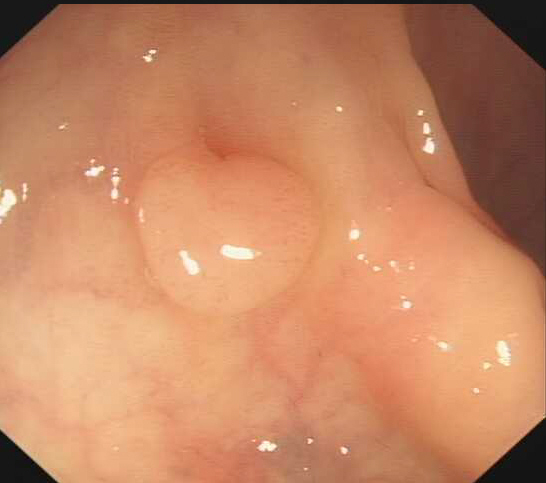adenoma: (131, 144, 326, 319)
